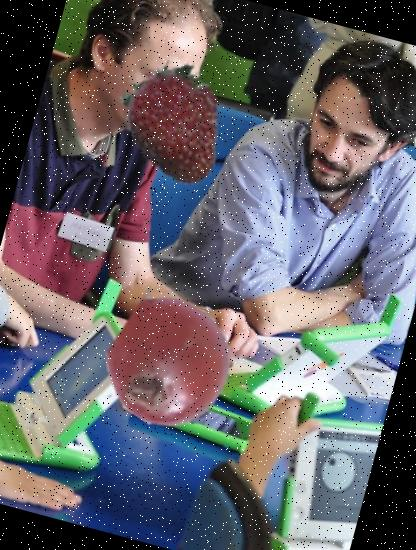Redcurrant: (94, 288, 245, 440)
Strawberry: (104, 48, 256, 200)
